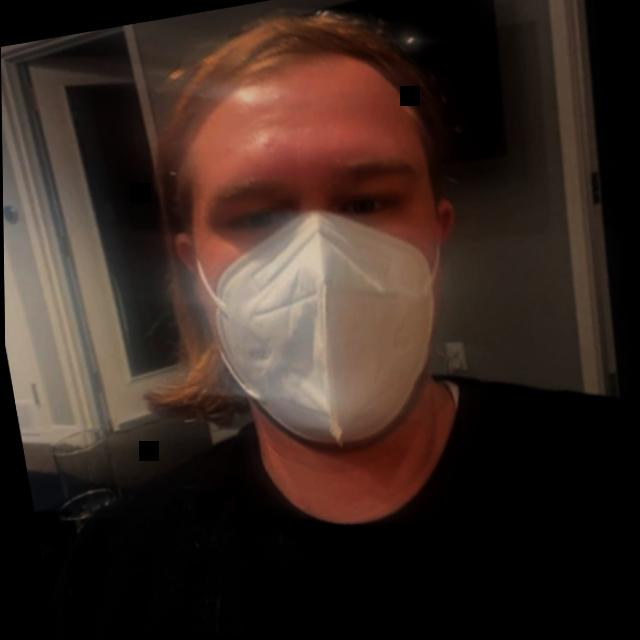Mask: (97, 0, 528, 479)
